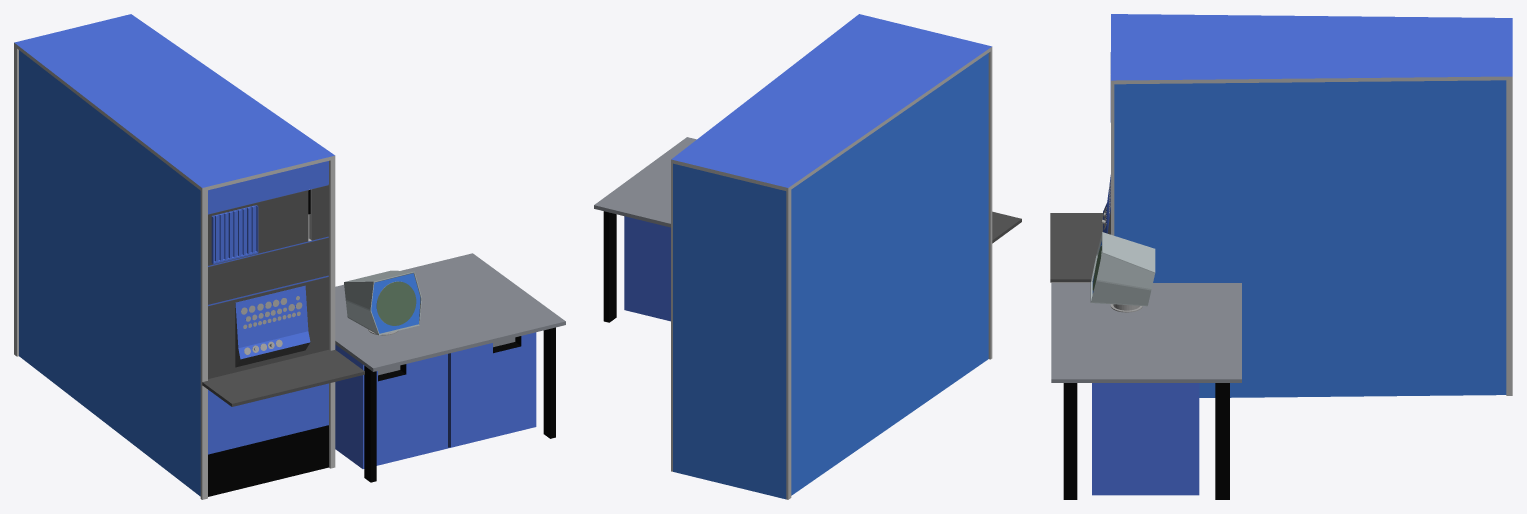
Rendered from PDP-1.fbx.
The picture shows the model from 3 angles, left to right: view 1: azimuth 30°, elevation 25°; view 2: azimuth 150°, elevation 25°; view 3: azimuth 270°, elevation 25°; orthographic projection. The views are drawn at different scales.
Parts seen in each view (by area): view 1: Mesa; view 2: Mesa; view 3: Mesa.
Part boxes in pixels (box(x1,y1,x2,y2)): Mesa: box(14, 14, 565, 499); Mesa: box(594, 14, 1021, 499); Mesa: box(1050, 14, 1512, 499).
Size of the model in its own units: 1169 by 1046 by 1367.
